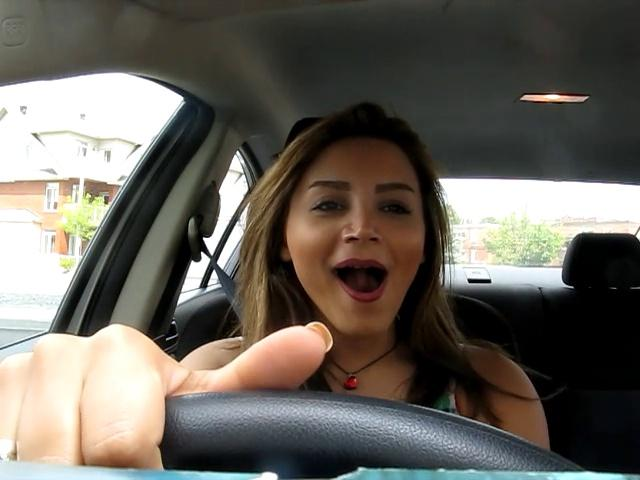close_eyeL: (298, 188, 355, 224)
close_eyeR: (365, 194, 427, 225)
yawn: (314, 252, 403, 307)
